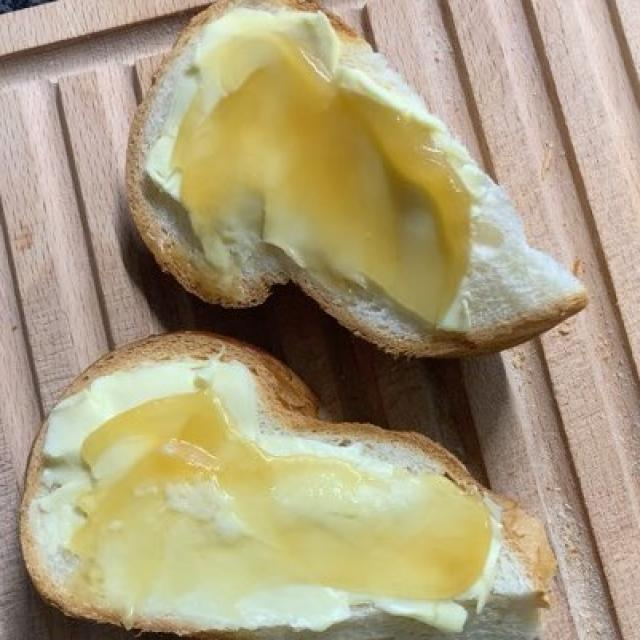bread: (9, 10, 583, 638)
butter: (38, 17, 487, 630)
honey: (66, 46, 506, 612)
